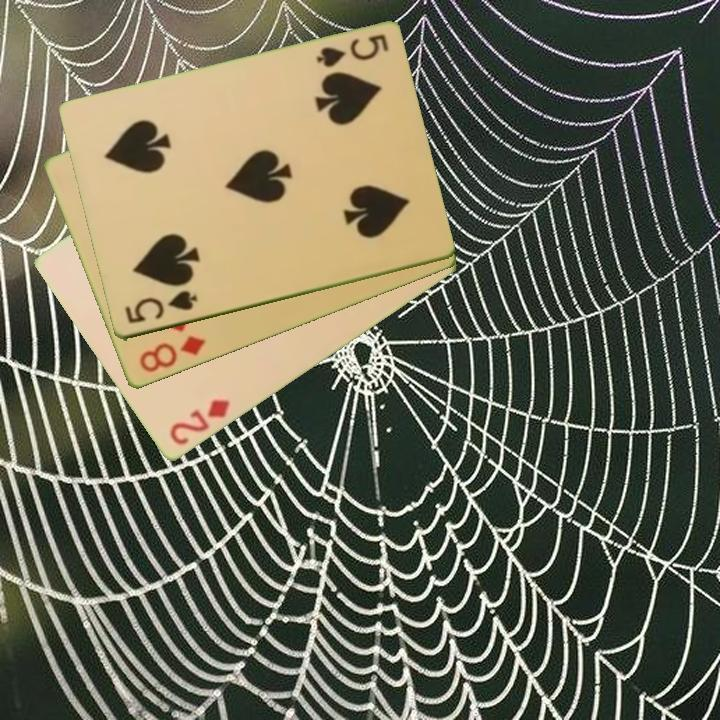2d: (165, 396, 233, 449)
5s: (121, 287, 200, 327), (312, 31, 391, 71)
8d: (135, 332, 209, 376)
